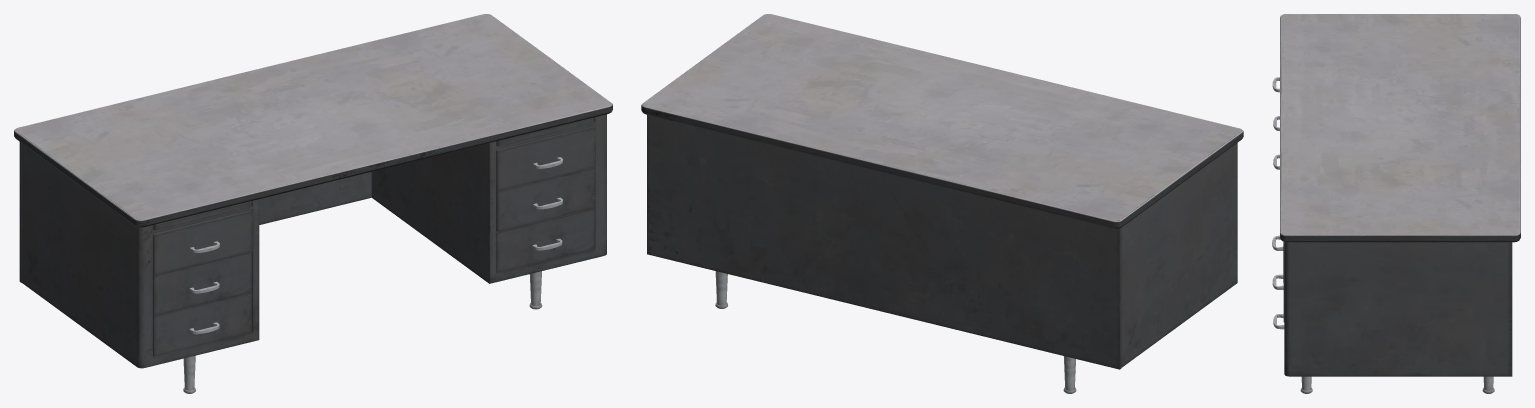
The model's file is old-desk.glb.
3 renders of one model, left to right at view 1: azimuth 30°, elevation 25°; view 2: azimuth 150°, elevation 25°; view 3: azimuth 270°, elevation 25°, orthographic. The views are drawn at different scales.
Parts seen in each view (by area): view 1: old-desk; view 2: old-desk; view 3: old-desk.
Part boxes in pixels (x1,y1,x2,y2): old-desk: (14, 14, 612, 393); old-desk: (641, 14, 1243, 393); old-desk: (1272, 14, 1520, 393).
Size of the model in its own units: 2 by 0.7874 by 0.9471.
1 material, 1 textured.
